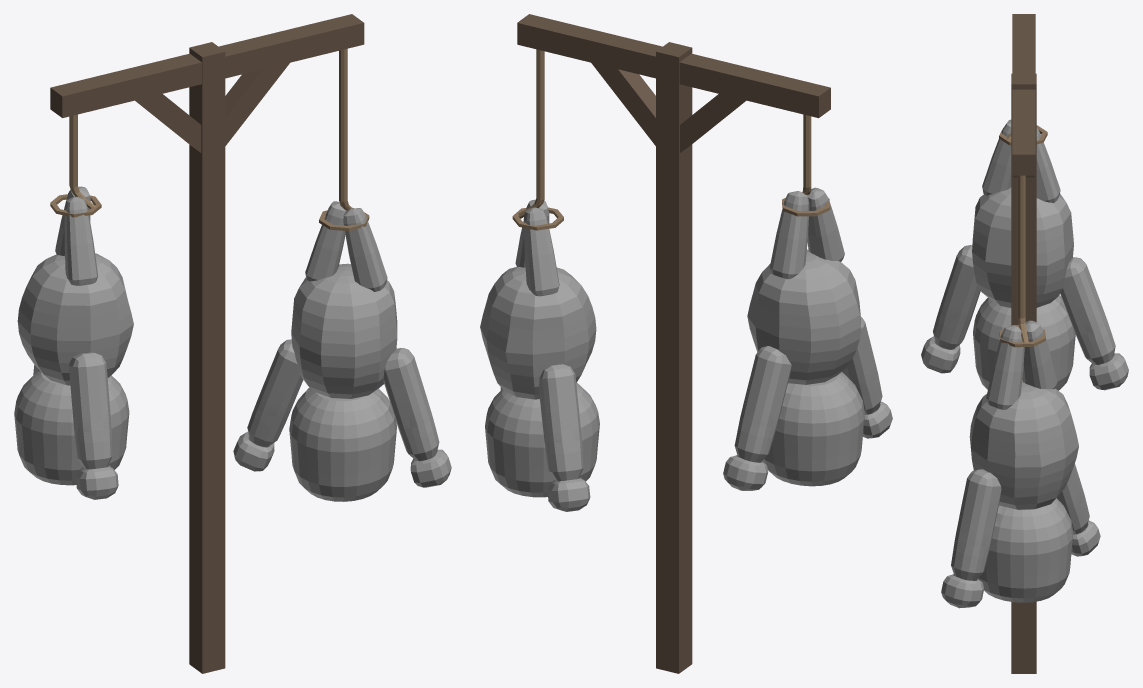
File: hangman_4.glb
The picture shows the model from 3 angles, left to right: view 1: azimuth 30°, elevation 25°; view 2: azimuth 150°, elevation 25°; view 3: azimuth 270°, elevation 25°; orthographic projection. The views are drawn at different scales.
Visible parts, largest first — view 1: Cube.1079; view 2: Cube.1079; view 3: Cube.1079.
Part boxes in pixels (x1=…): Cube.1079: x1=14, y1=14, x2=451, y2=673; Cube.1079: x1=480, y1=14, x2=892, y2=673; Cube.1079: x1=921, y1=14, x2=1128, y2=673.
Size of the model in its own units: 0.1396 by 0.2079 by 0.0665.
